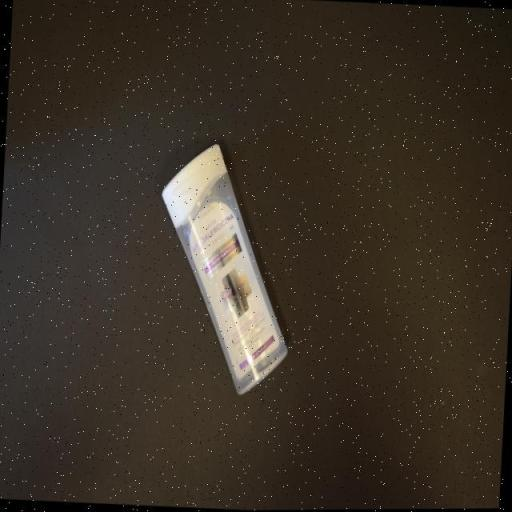plastic: (153, 137, 302, 398)
